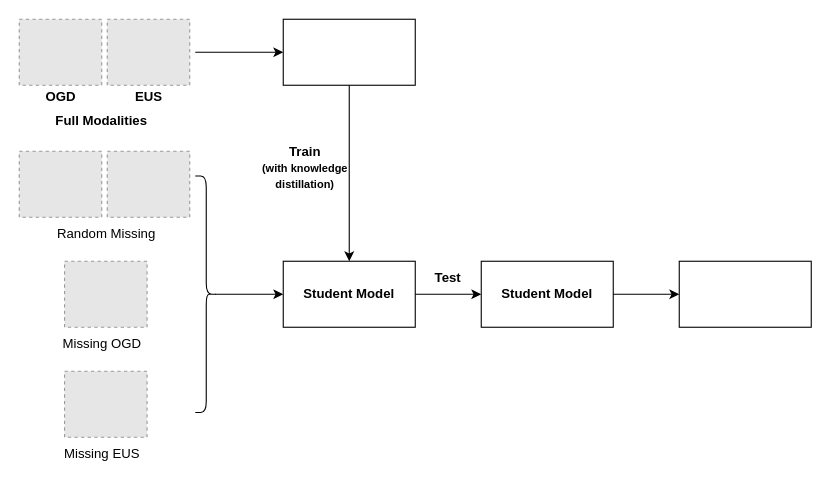
Image size: 831x490. Some labels were removed from this diagram. Grey dashed boxes stand in for pictures. The shapes that lost their labels are listed below. From the top down, each one's centre as x and y in pixels, then its label:
(348,51): Teacher Model
(744,293): Classification
